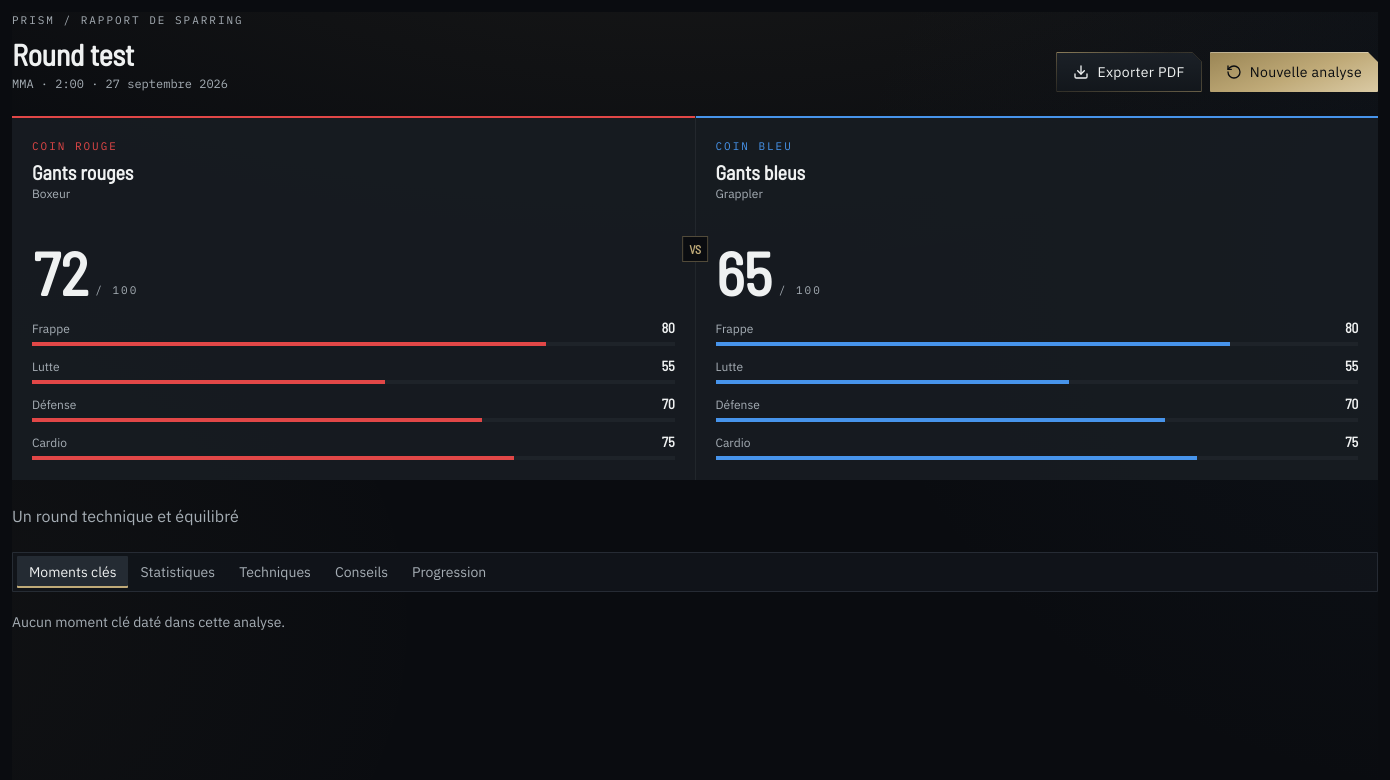
Test: renders legacy analyses with missing optional information
The image size is (1390, 780).
Click the tab "Techniques": (275, 572) [227,556,323,588]
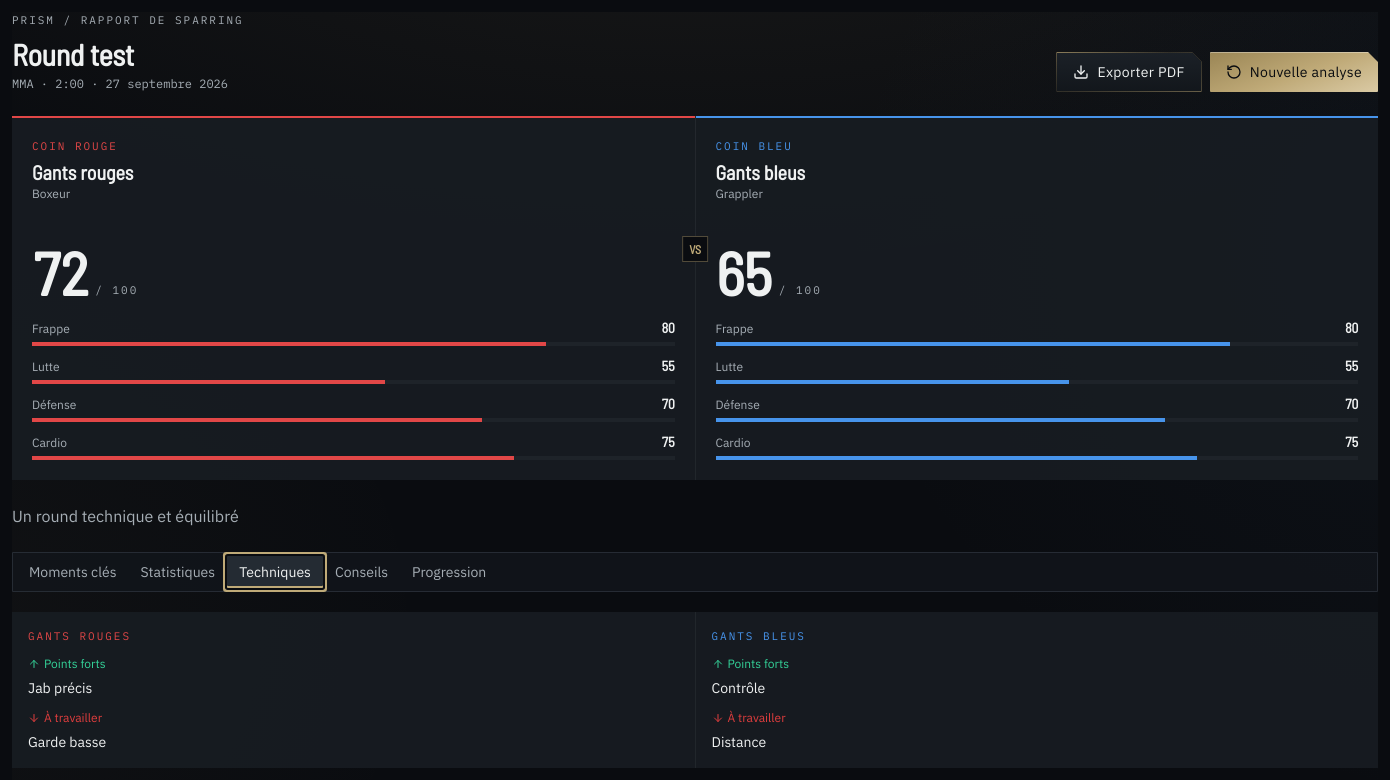
expect the panel shows "Jab précis": met, box [28,679,92,697]
